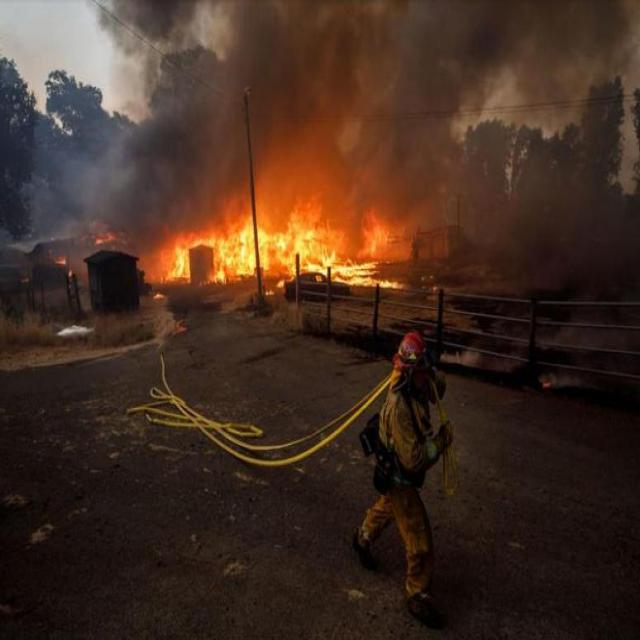fire: (142, 154, 407, 284)
